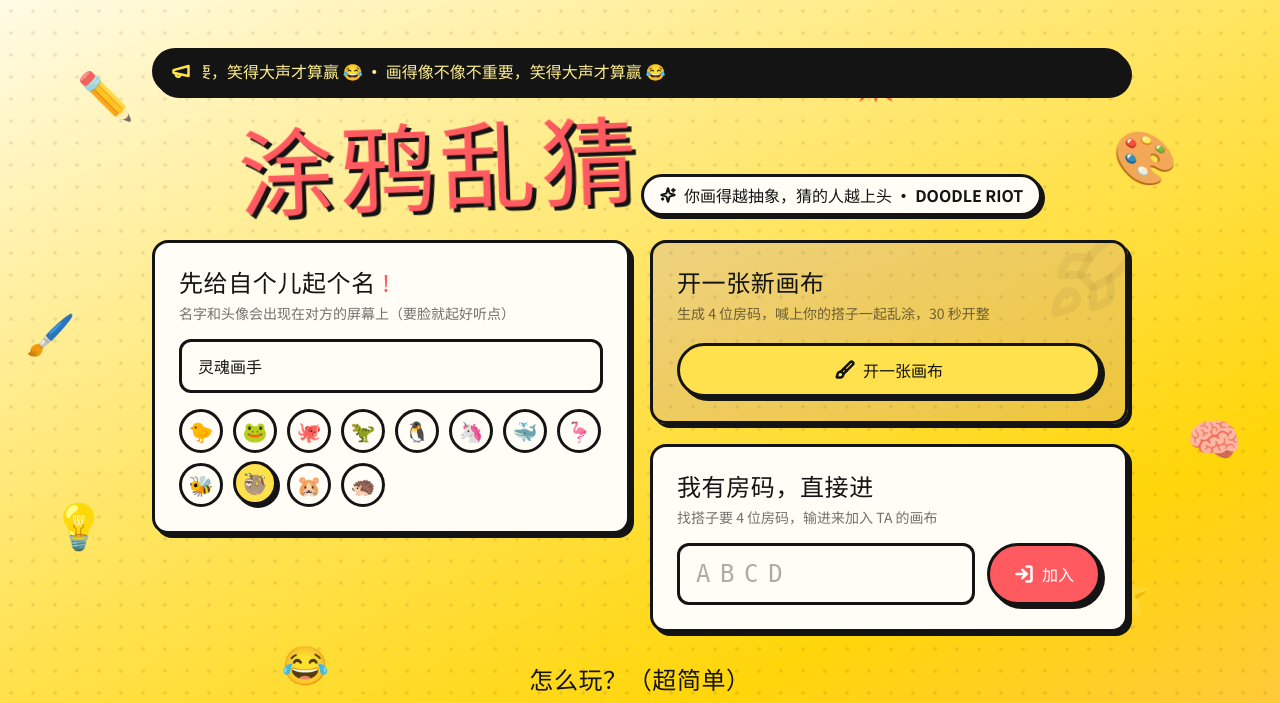
it: 大厅页 › 点击开一张画布后展示房码面板
Click the button "开一张画布".
click(889, 370)  # box [677,343,1101,397]
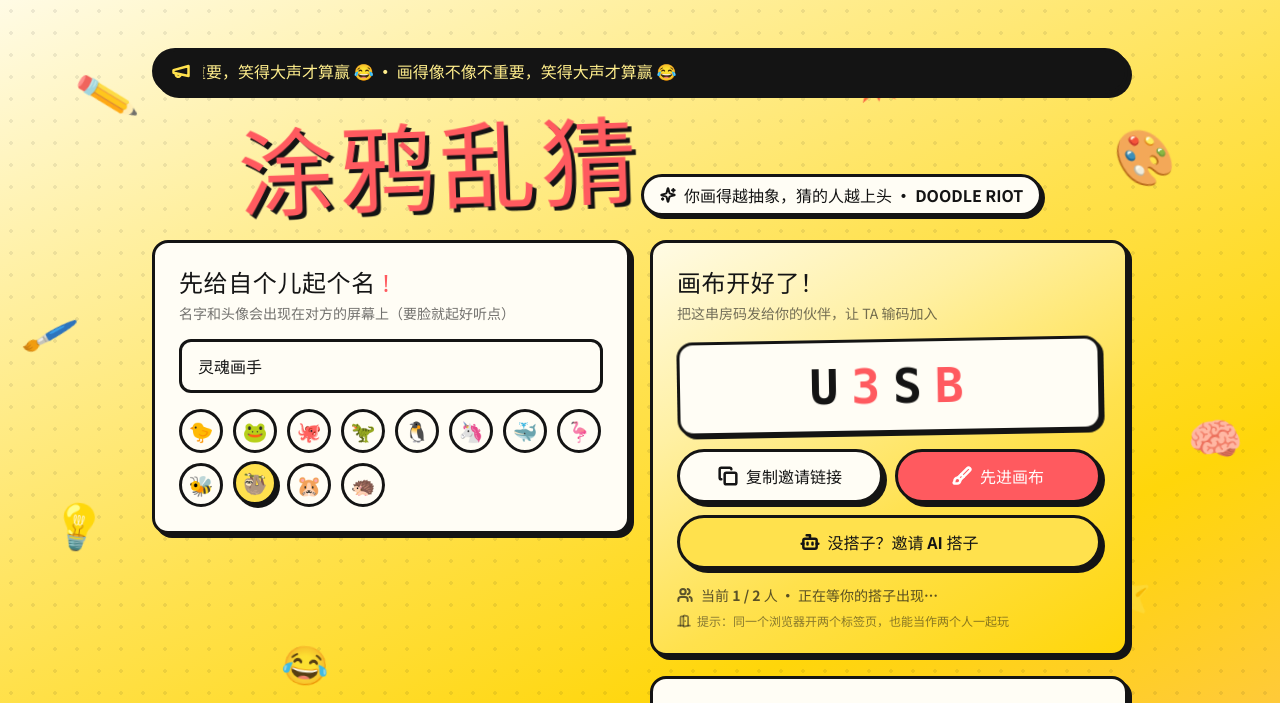
expect the heading "画布开好了！" is shown: met, box [677,266,825,299]
